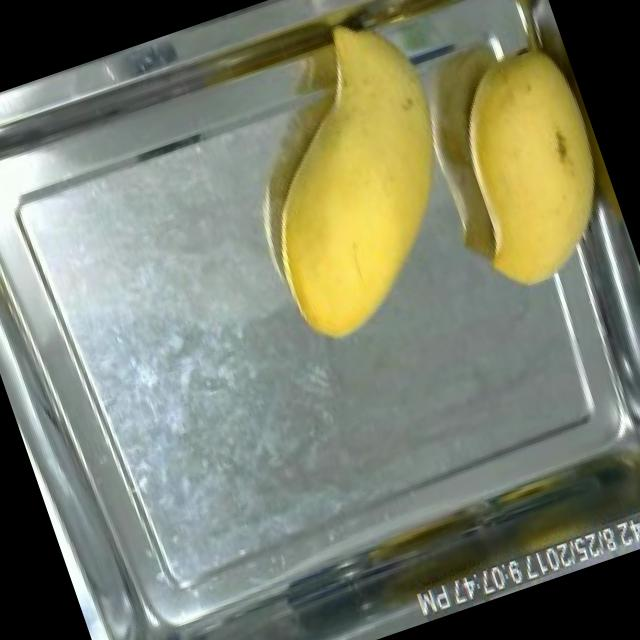fruit: (200, 0, 508, 360), (426, 26, 636, 300)
